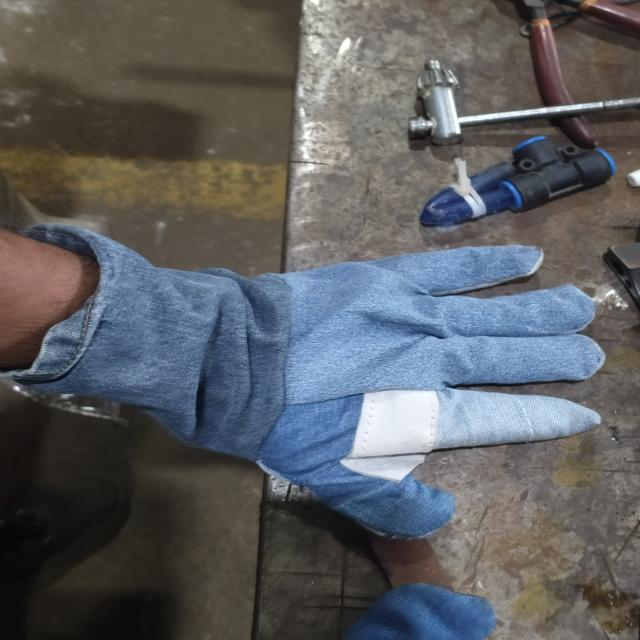Gloves-Detection: (38, 208, 566, 529), (320, 574, 472, 640)
